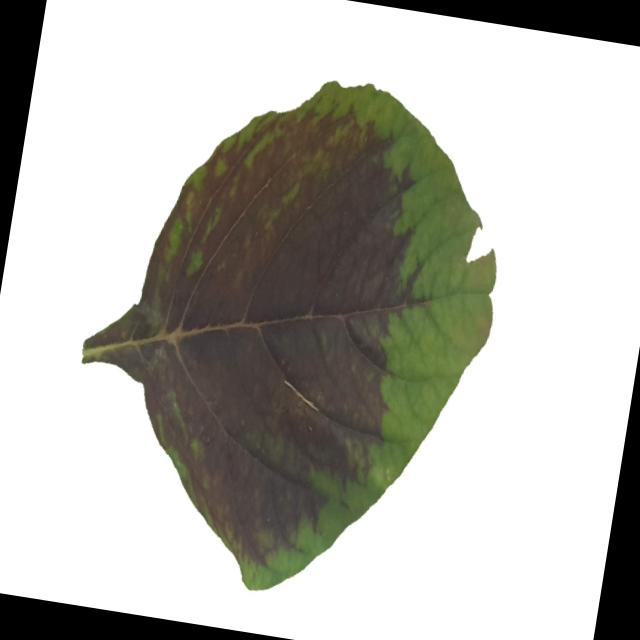Medicinal-Arive Dantu: (50, 47, 527, 618)
